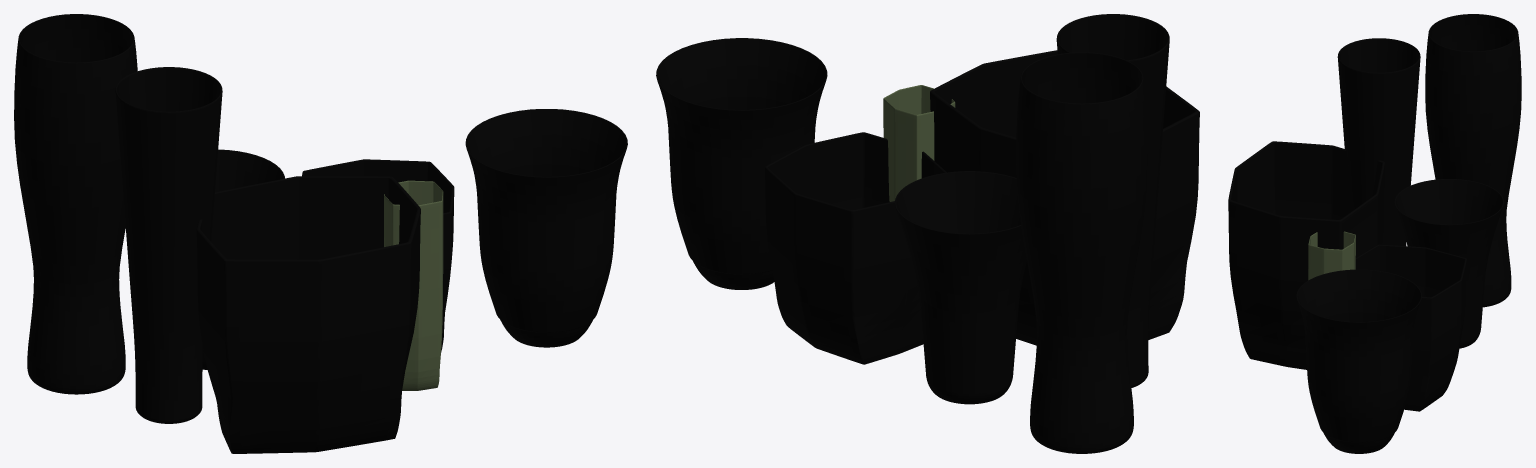
Rendered from szklanki .fbx.
3 renders of one model, left to right at view 1: azimuth 30°, elevation 25°; view 2: azimuth 150°, elevation 25°; view 3: azimuth 270°, elevation 25°, orthographic. The views are drawn at different scales.
Parts seen in each view (by area): view 1: szklanka 4, szklanka 0, szklanka 5, szlanka 04, szklanka 1, szklanka 3, szklanka 2; view 2: szklanka 0, szklanka 5, szklanka 3, szklanka 2, szklanka 4, szlanka 04, szklanka 1; view 3: szklanka 4, szklanka 5, szklanka 0, szlanka 04, szklanka 3, szklanka 2, szklanka 1.
Boxes of the visible parts, x1,y1,x2,y2 form: szklanka 4: [196, 176, 420, 453]; szklanka 0: [14, 14, 137, 394]; szklanka 5: [465, 109, 627, 347]; szlanka 04: [115, 67, 222, 423]; szklanka 1: [384, 180, 443, 390]; szklanka 3: [302, 159, 454, 352]; szklanka 2: [202, 149, 284, 369]; szklanka 0: [1016, 52, 1147, 453]; szklanka 5: [656, 38, 827, 289]; szklanka 3: [765, 132, 946, 364]; szklanka 2: [895, 171, 1026, 404]; szklanka 4: [930, 50, 1199, 345]; szlanka 04: [1056, 14, 1169, 387]; szklanka 1: [883, 85, 955, 201]; szklanka 4: [1228, 141, 1384, 369]; szklanka 5: [1296, 269, 1421, 453]; szklanka 0: [1425, 14, 1521, 307]; szlanka 04: [1337, 38, 1420, 246]; szklanka 3: [1355, 244, 1466, 411]; szklanka 2: [1394, 179, 1503, 348]; szklanka 1: [1308, 231, 1355, 280].
Bounding box in the file's own units: 31.23 × 19.34 × 19.73.
